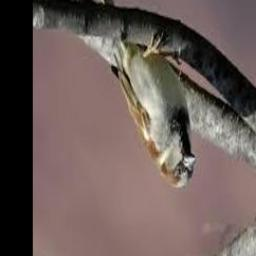Sparrow: (96, 0, 196, 189)
